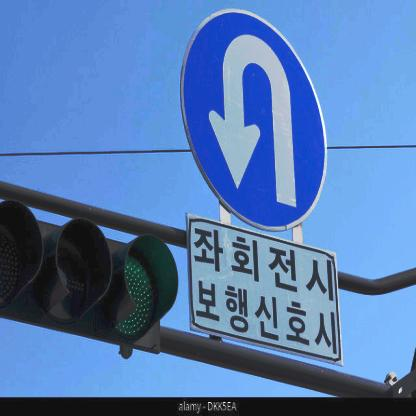U-turn: (180, 7, 332, 230)
